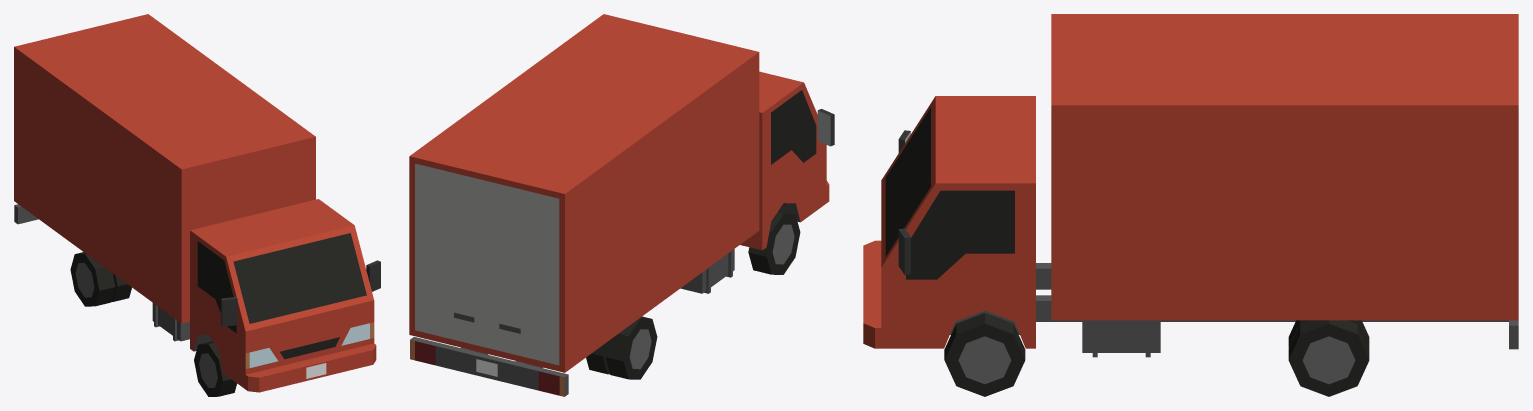
File: Veh_Truck_02_Red.obj
The picture shows the model from 3 angles, left to right: view 1: azimuth 30°, elevation 25°; view 2: azimuth 150°, elevation 25°; view 3: azimuth 270°, elevation 25°; orthographic projection. The views are drawn at different scales.
Bounding box in the file's own units: 1.27 × 1.61 × 3.26.
